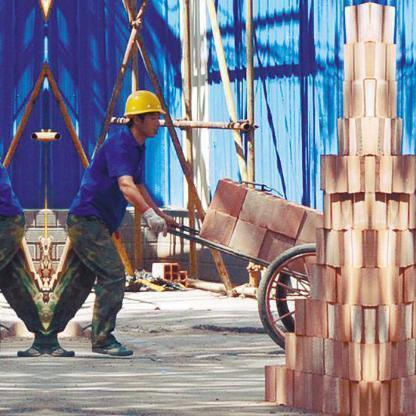helmet: (120, 84, 173, 121)
